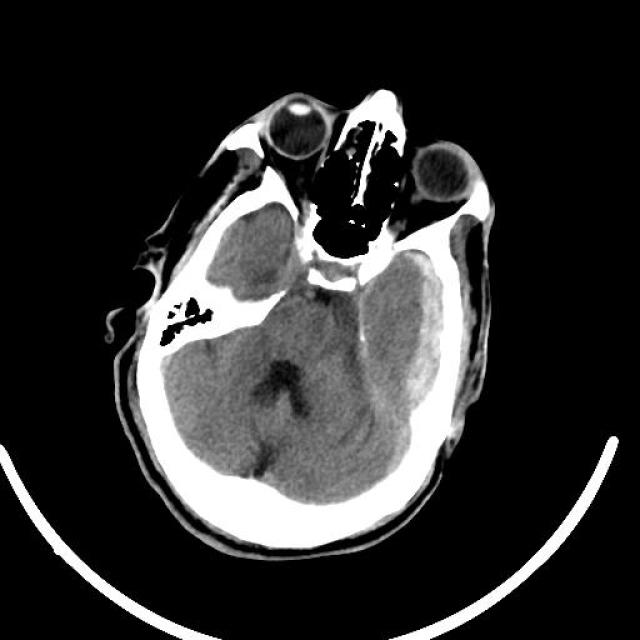Subdural: (399, 234, 486, 436)
